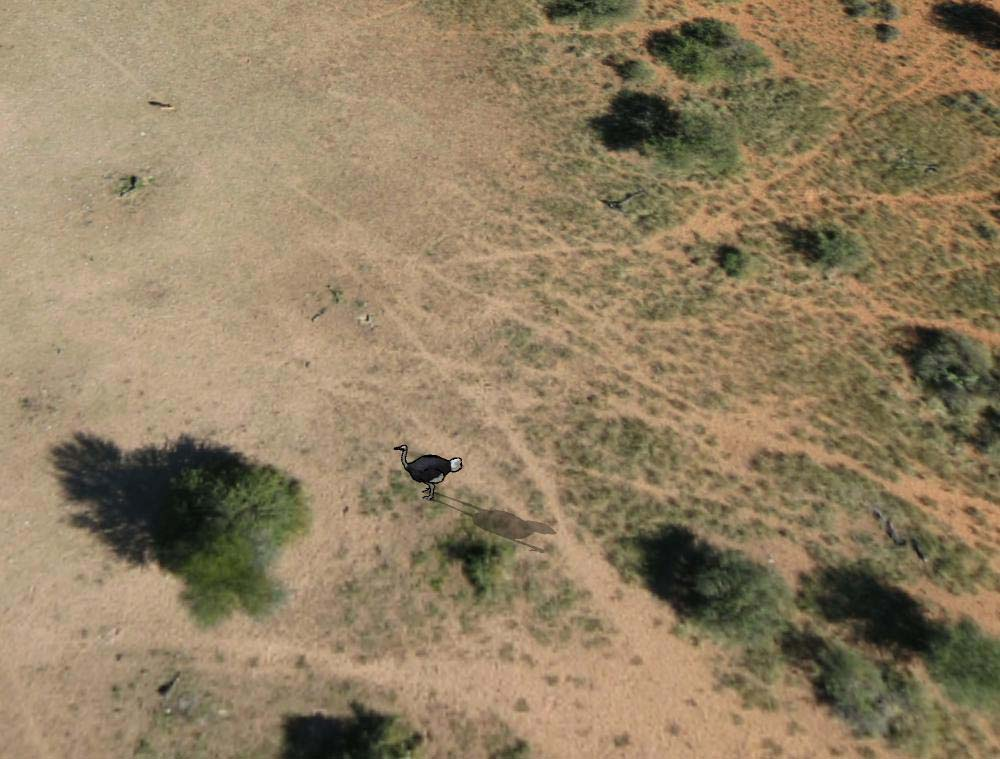springbok: (389, 441, 472, 506)
